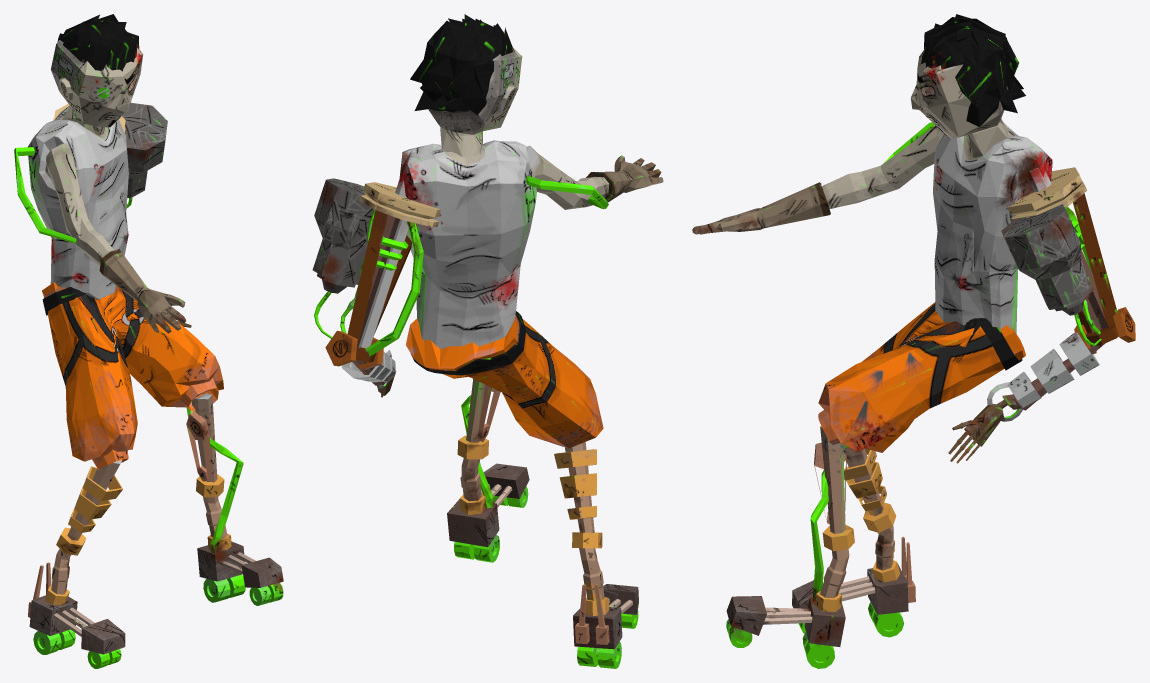
File: CyborgFINALAnimation_000006.obj
3 renders of one model, left to right at view 1: azimuth 30°, elevation 25°; view 2: azimuth 150°, elevation 25°; view 3: azimuth 270°, elevation 25°, orthographic. The views are drawn at different scales.
Parts seen in each view (by area): view 1: CyborgMesh_Cube.002; view 2: CyborgMesh_Cube.002; view 3: CyborgMesh_Cube.002.
Boxes of the visible parts, x1,y1,x2,y2 form: CyborgMesh_Cube.002: (14,14,283,668); CyborgMesh_Cube.002: (312,14,663,668); CyborgMesh_Cube.002: (692,14,1135,668).
Size of the model in its own units: 3.23 by 9.09 by 5.59.
